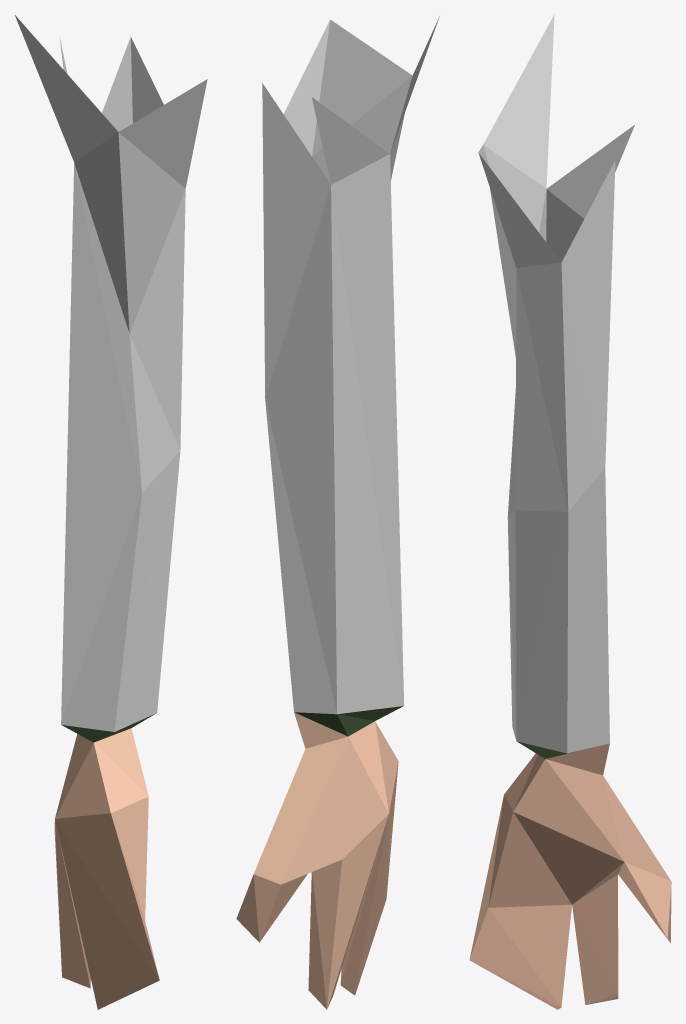
The model's file is ArmL.obj.
The picture shows the model from 3 angles, left to right: view 1: azimuth 30°, elevation 25°; view 2: azimuth 150°, elevation 25°; view 3: azimuth 270°, elevation 25°; orthographic projection. The views are drawn at different scales.
Bounding box in the file's own units: 0.163 × 0.909 × 0.174.
1 material, 1 textured.
